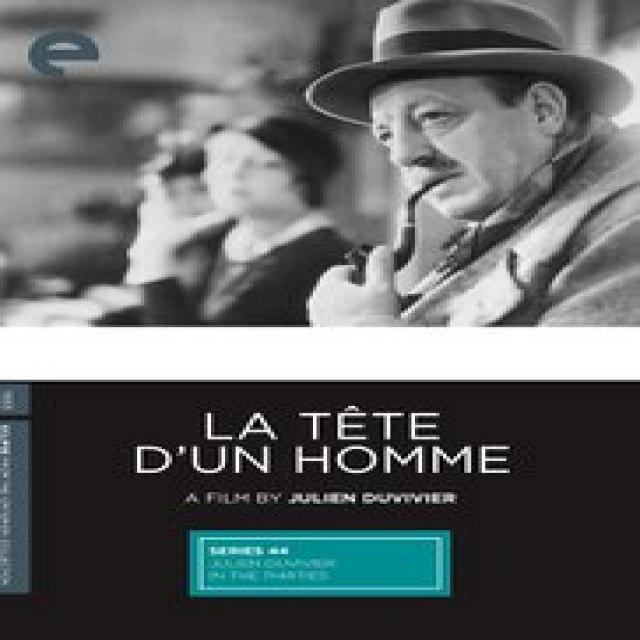movie-judul: (128, 400, 533, 484)
picture: (0, 0, 640, 327)
